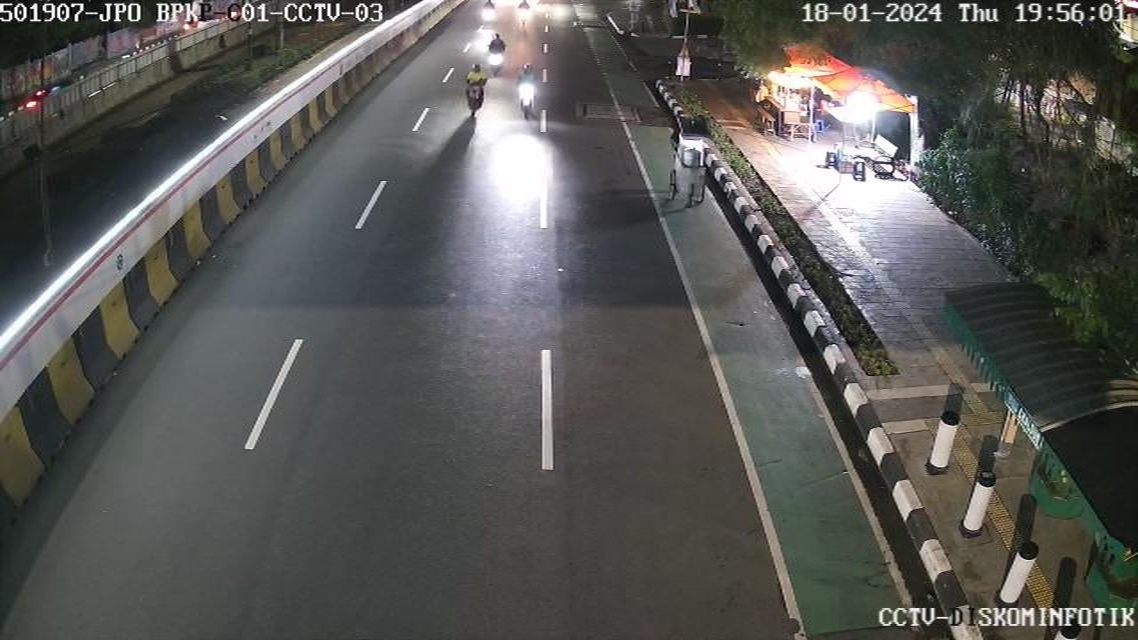Gerobak: (656, 106, 756, 230), (757, 72, 805, 146)
